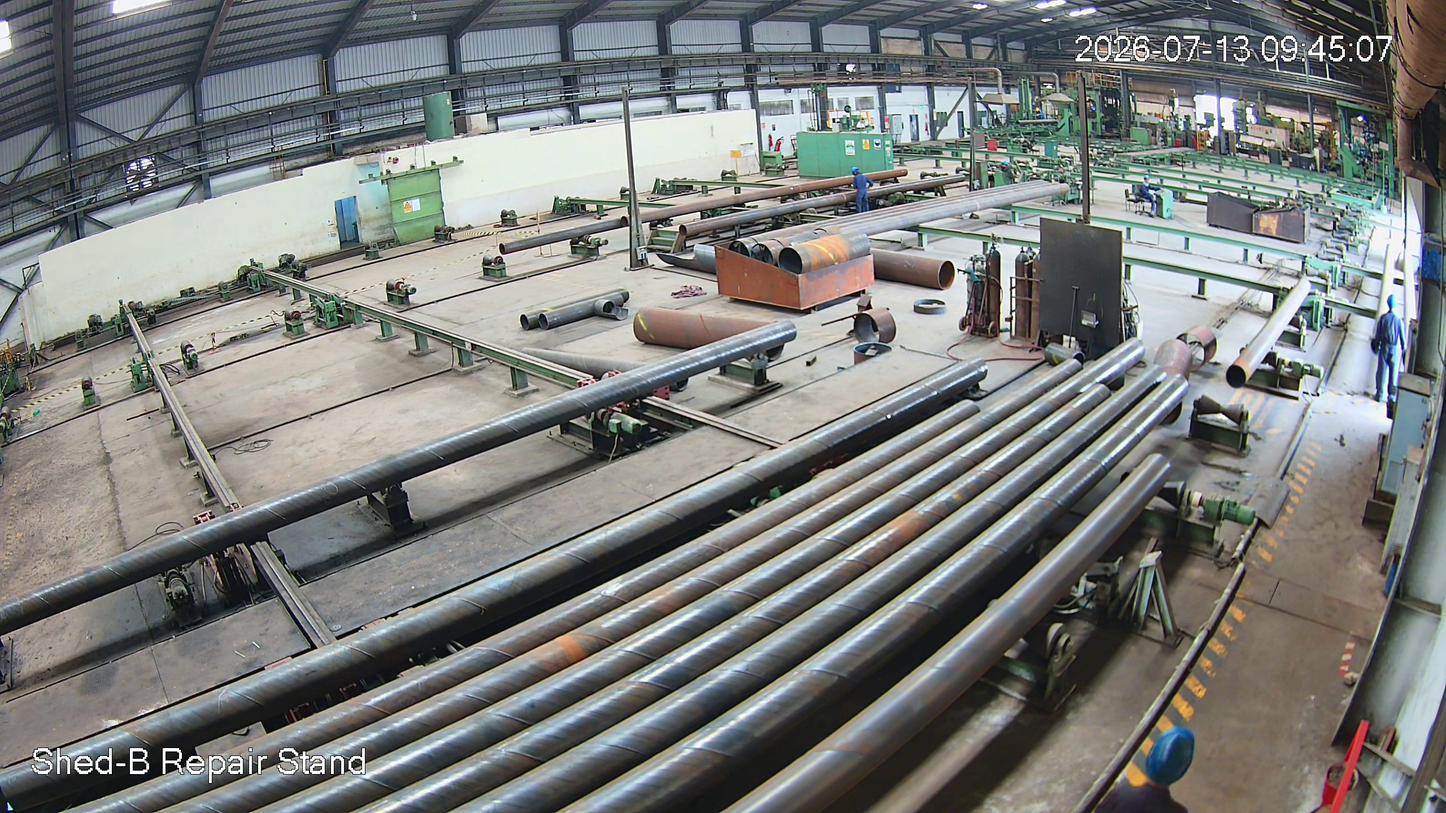Helmet: (1135, 705, 1207, 799), (1375, 283, 1403, 330), (850, 166, 862, 177)
Person: (1104, 714, 1265, 813), (1372, 289, 1411, 401), (850, 167, 873, 214)
